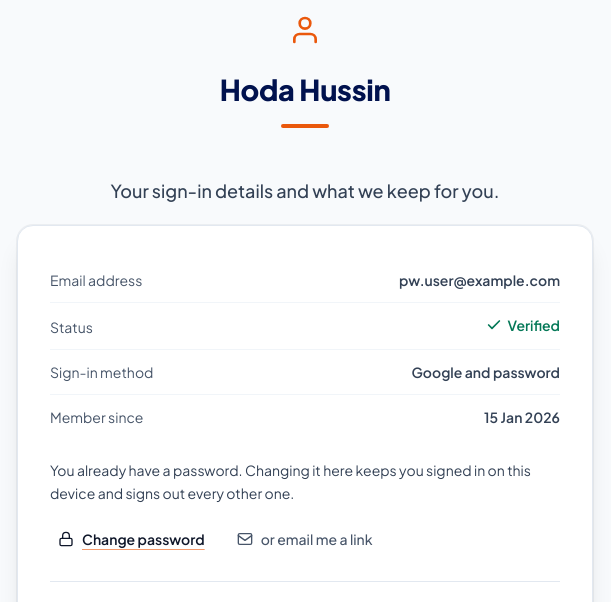
Test case: changing a password on the profile page › opens the form on this page rather than navigating away
Expected: the text "pw.user@example.com" is shown, [399,271,560,289]
Click the button "Change password".
click(131, 539)  # box [50,517,213,561]
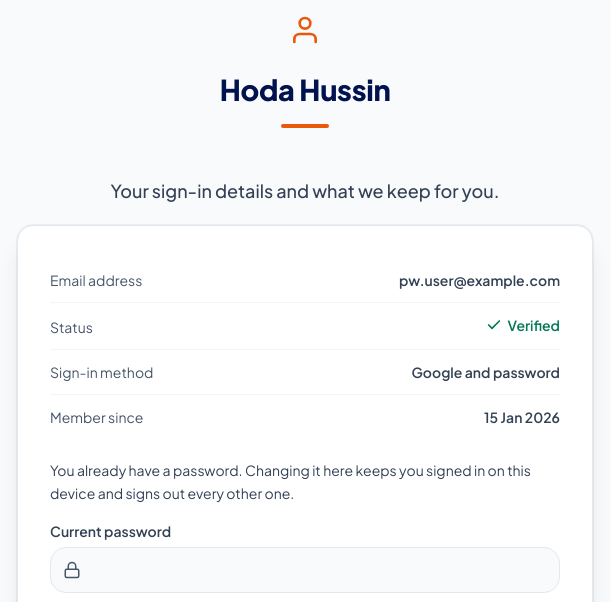
Expected: the text "pw.user@example.com" is shown, [399,271,560,289]
Expected: the password field labelled "Current password" is shown, [50,547,560,593]
